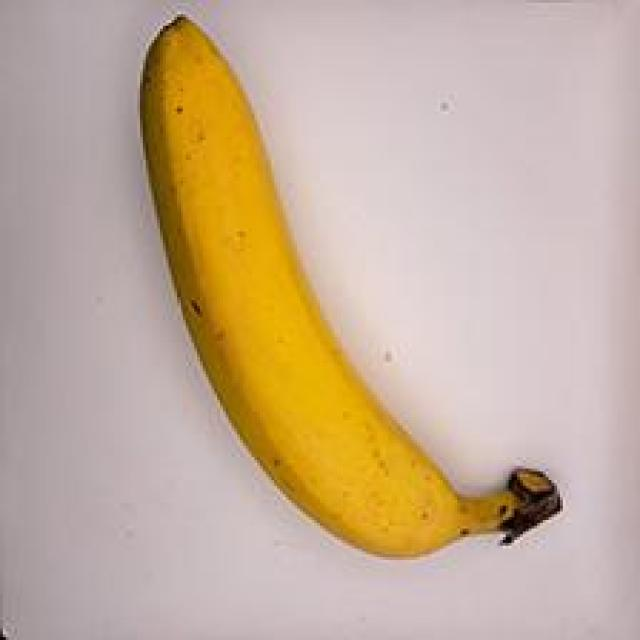Ripe: (96, 7, 590, 575)
